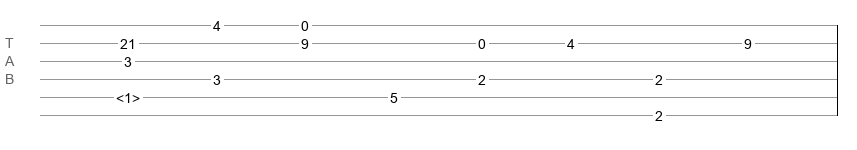0: (301, 18, 309, 28), (478, 36, 486, 46)
2: (478, 72, 486, 82), (655, 72, 663, 82), (655, 108, 663, 118)
21: (120, 36, 136, 46)
3: (124, 54, 132, 64), (213, 72, 221, 82)
4: (213, 18, 221, 28), (567, 36, 575, 46)
5: (390, 90, 398, 100)
9: (301, 36, 309, 46), (744, 36, 752, 46)
harmonic: (116, 90, 140, 100)
